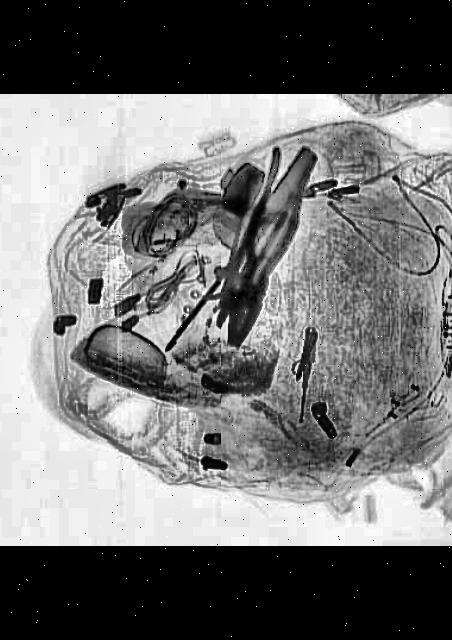Pliers: (204, 147, 320, 350)
